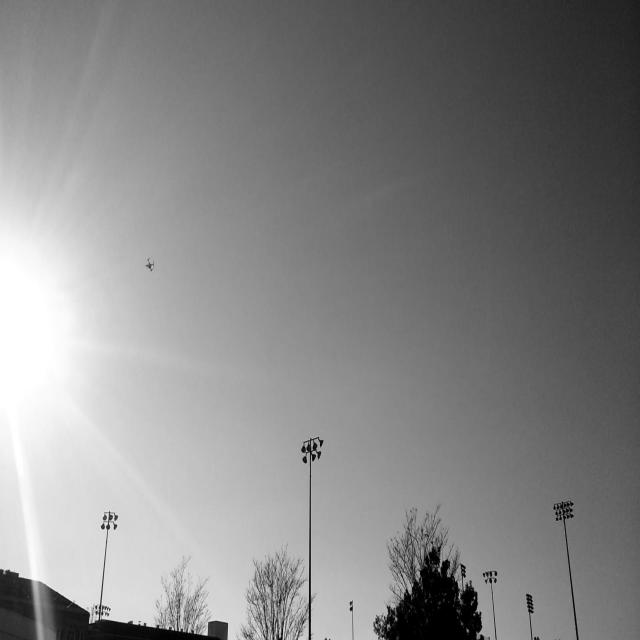drone: (141, 251, 158, 276)
